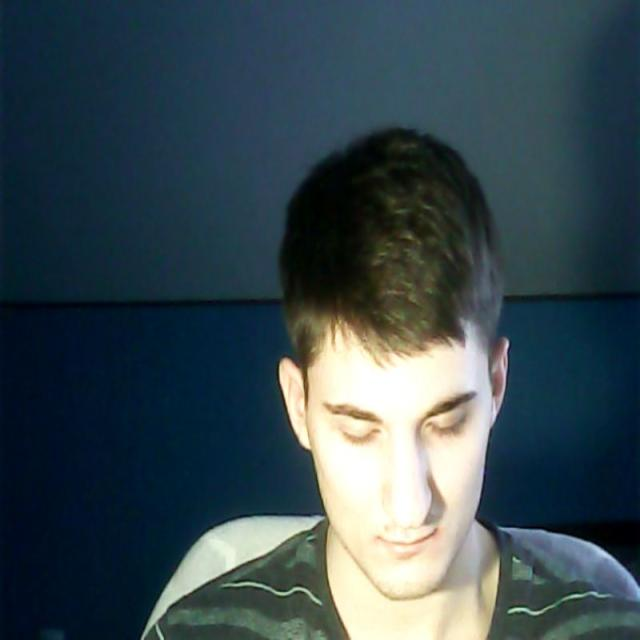Eyeclosed: (426, 412, 466, 447), (340, 421, 380, 453)
